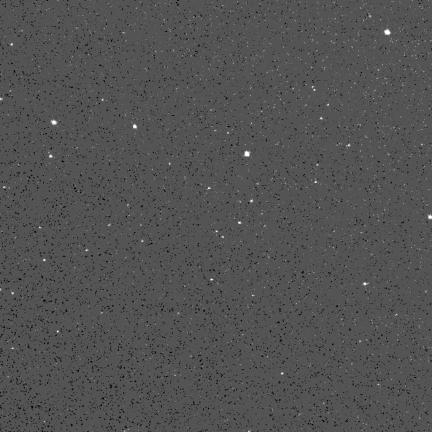blob: (385, 29, 391, 35), (244, 151, 250, 156), (52, 120, 57, 125), (133, 125, 137, 129), (49, 154, 53, 158), (428, 215, 431, 219), (238, 222, 242, 225), (250, 199, 253, 202)
